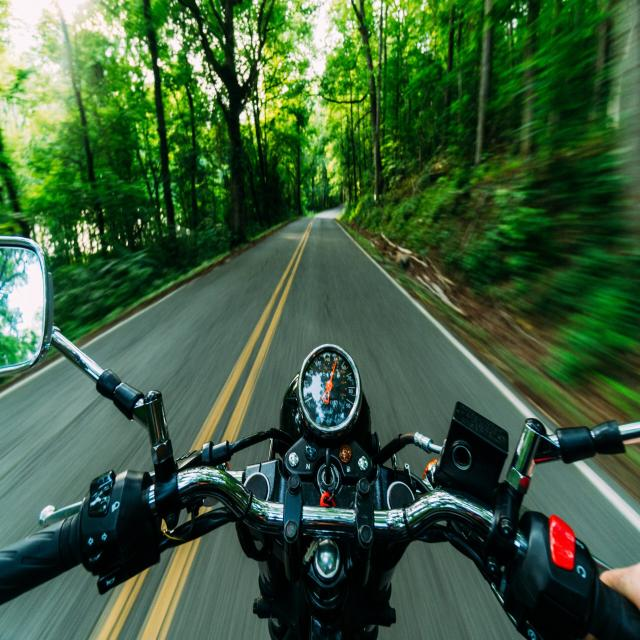Bike: (3, 222, 640, 640)
